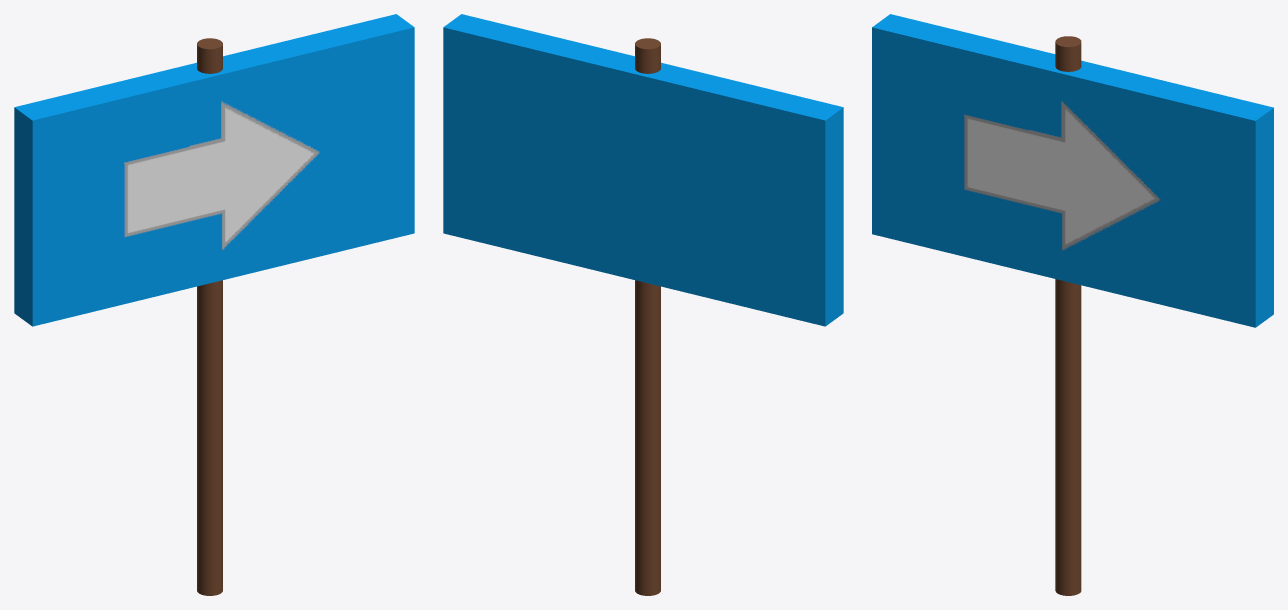
The model's file is placa.glb.
3 renders of one model, left to right at view 1: azimuth 30°, elevation 25°; view 2: azimuth 150°, elevation 25°; view 3: azimuth 330°, elevation 25°, orthographic.
Visible parts, largest first — view 1: mesh_id68, mesh_id72; view 2: mesh_id68, mesh_id72; view 3: mesh_id68, mesh_id72.
Boxes of the visible parts, <box> form: mesh_id68: <box>14,14,414,326</box>; mesh_id72: <box>197,38,222,595</box>; mesh_id68: <box>443,14,843,326</box>; mesh_id72: <box>635,38,660,595</box>; mesh_id68: <box>872,14,1273,327</box>; mesh_id72: <box>1055,36,1081,595</box>.
Bounding box in the file's own units: 0.3485 × 0.4764 × 0.0288.
2 materials, 2 textured.
